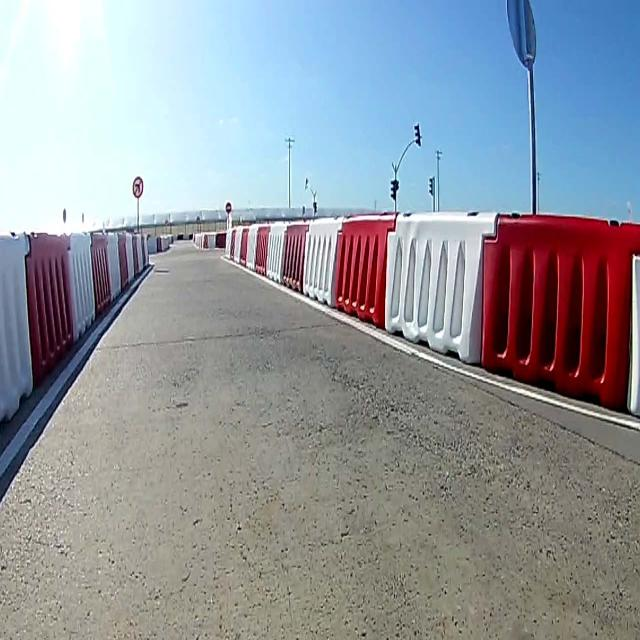soladonulmez: (133, 175, 143, 201)
